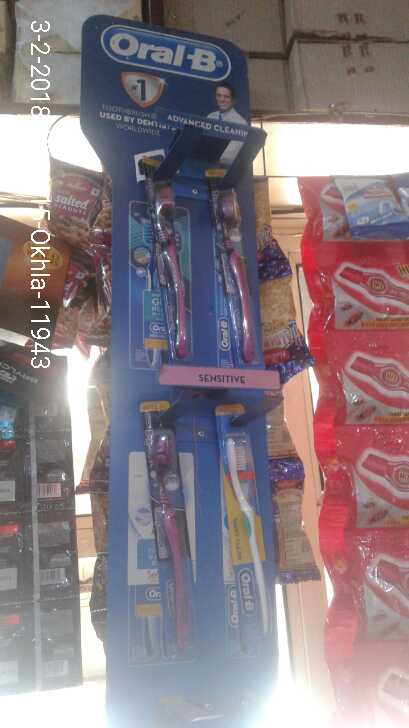oralb: (219, 427, 271, 649), (150, 421, 200, 649), (143, 178, 191, 365), (212, 194, 260, 368)
